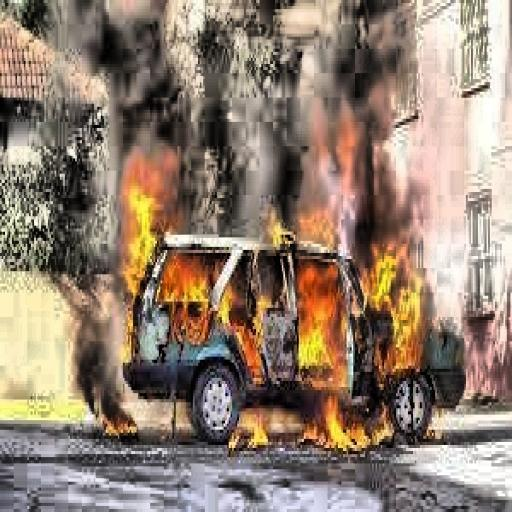fire: (78, 152, 228, 366), (297, 158, 432, 378), (288, 387, 420, 475), (213, 390, 280, 466), (82, 384, 155, 451)
